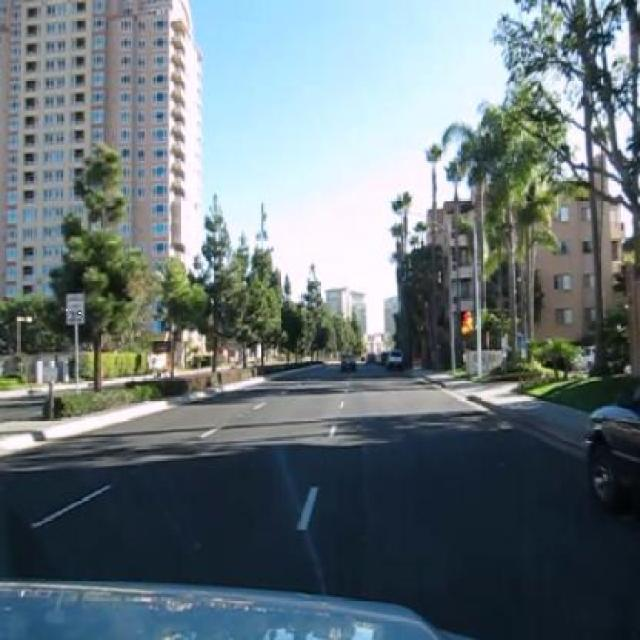speedLimit35: (64, 292, 86, 325)
